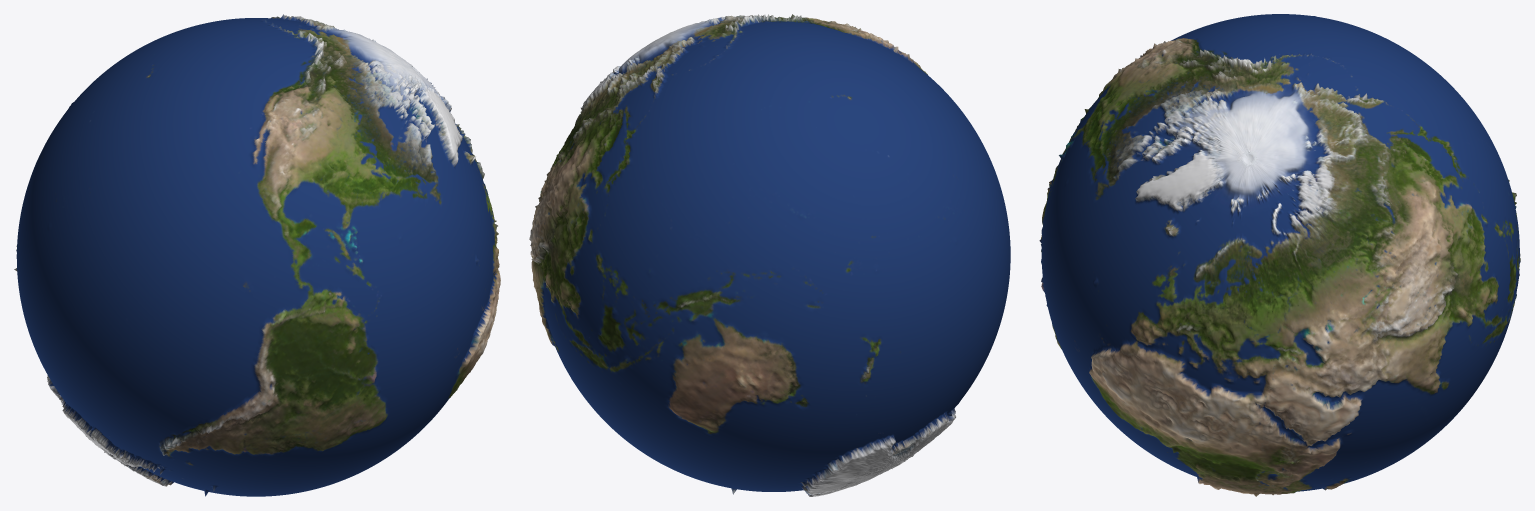
Rendered from earth1.glb.
3 views of the same model, side by side, from view 1: azimuth 30°, elevation 25°; view 2: azimuth 150°, elevation 25°; view 3: azimuth 270°, elevation 25° (orthographic).
Visible parts, largest first — view 1: Sphere; view 2: Sphere; view 3: Sphere.
Part boxes in pixels (x1=…): Sphere: x1=14, y1=14, x2=500, y2=496; Sphere: x1=529, y1=14, x2=1010, y2=496; Sphere: x1=1039, y1=14, x2=1520, y2=496.
Size of the model in its own units: 2 by 1.98 by 1.99.
1 material, 1 textured.
